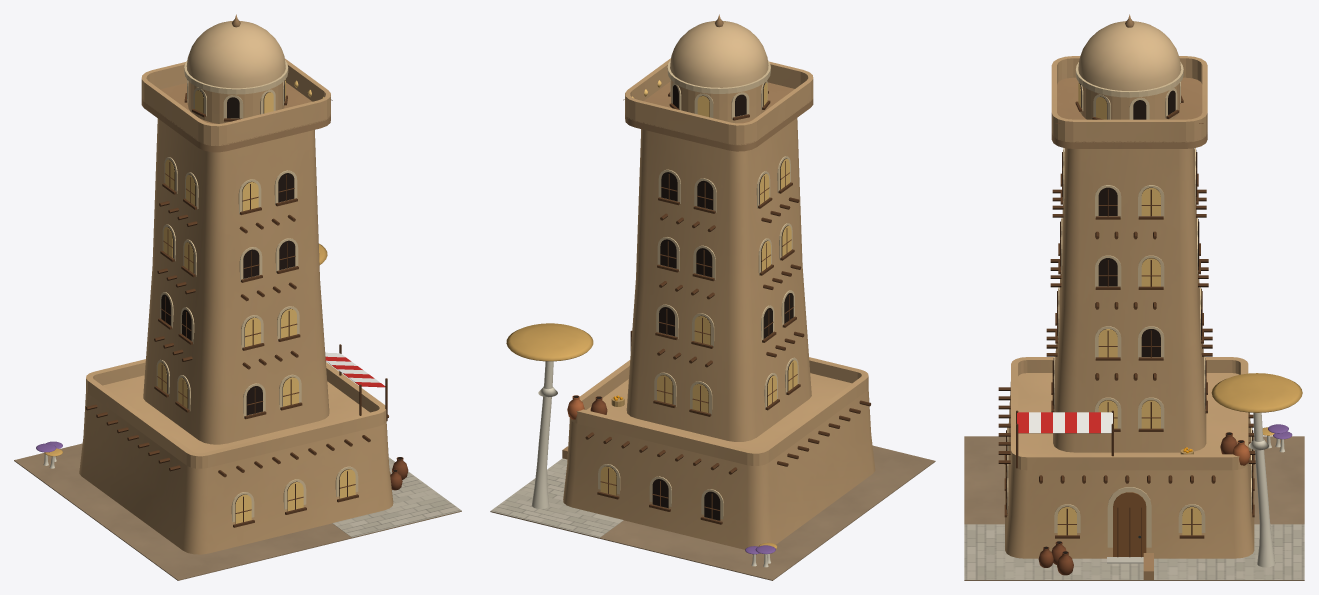
File: hl_vez.glb
3 views of the same model, side by side, from view 1: azimuth 30°, elevation 25°; view 2: azimuth 150°, elevation 25°; view 3: azimuth 270°, elevation 25° (orthographic). The views are drawn at different scales.
Visible parts, largest first — view 1: dum, noc; view 2: dum, noc; view 3: dum, noc.
Boxes of the visible parts, bbox=[...] form: dum: bbox=[14, 14, 461, 580]; noc: bbox=[157, 79, 355, 523]; dum: bbox=[490, 14, 935, 580]; noc: bbox=[600, 80, 797, 495]; dum: bbox=[964, 14, 1304, 580]; noc: bbox=[1057, 83, 1201, 535].
Bounding box in the file's own units: 14.21 × 22.65 × 14.16.
Materials: 1 (1 with a texture image).
